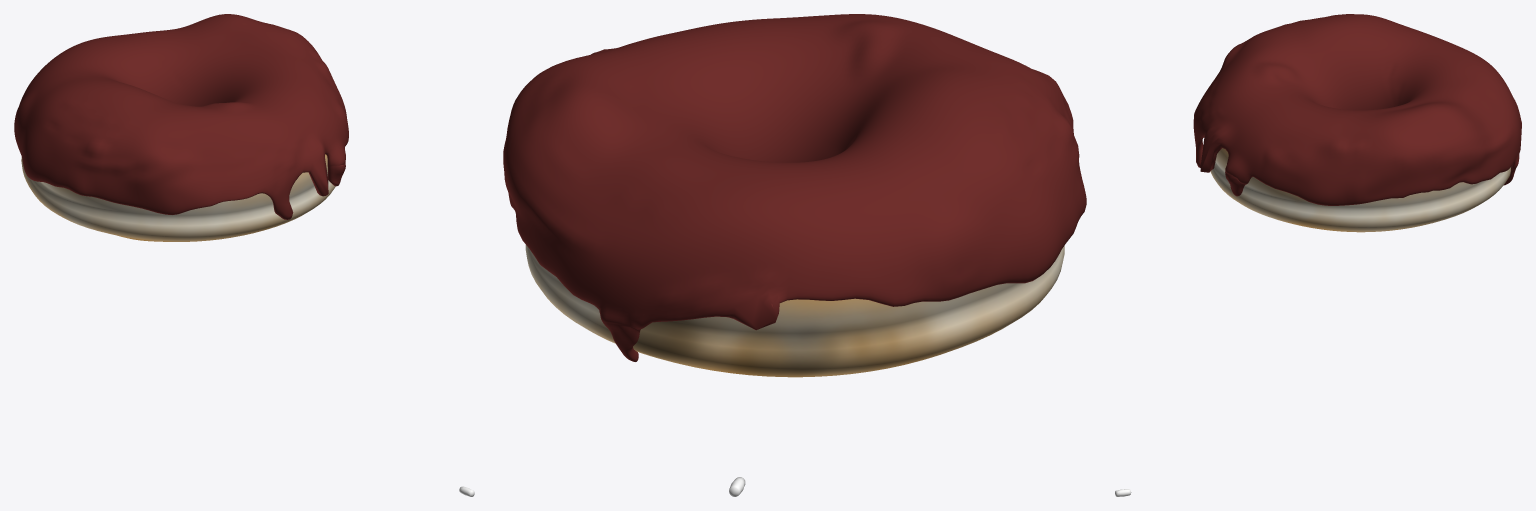
3 views of the same model, side by side, from view 1: azimuth 30°, elevation 25°; view 2: azimuth 150°, elevation 25°; view 3: azimuth 270°, elevation 25° (orthographic). The views are drawn at different scales.
Parts seen in each view (by area): view 1: Icing, Donut; view 2: Icing, Donut; view 3: Icing, Donut.
Part boxes in pixels (x1,y1,x2,y2): Icing: [14, 14, 348, 219]; Donut: [21, 154, 335, 241]; Icing: [503, 14, 1086, 361]; Donut: [525, 244, 1064, 377]; Icing: [1193, 14, 1521, 205]; Donut: [1210, 148, 1510, 232].
Bounding box in the file's own units: 0.0912 × 0.105 × 0.1066.
3 materials, 1 textured.
